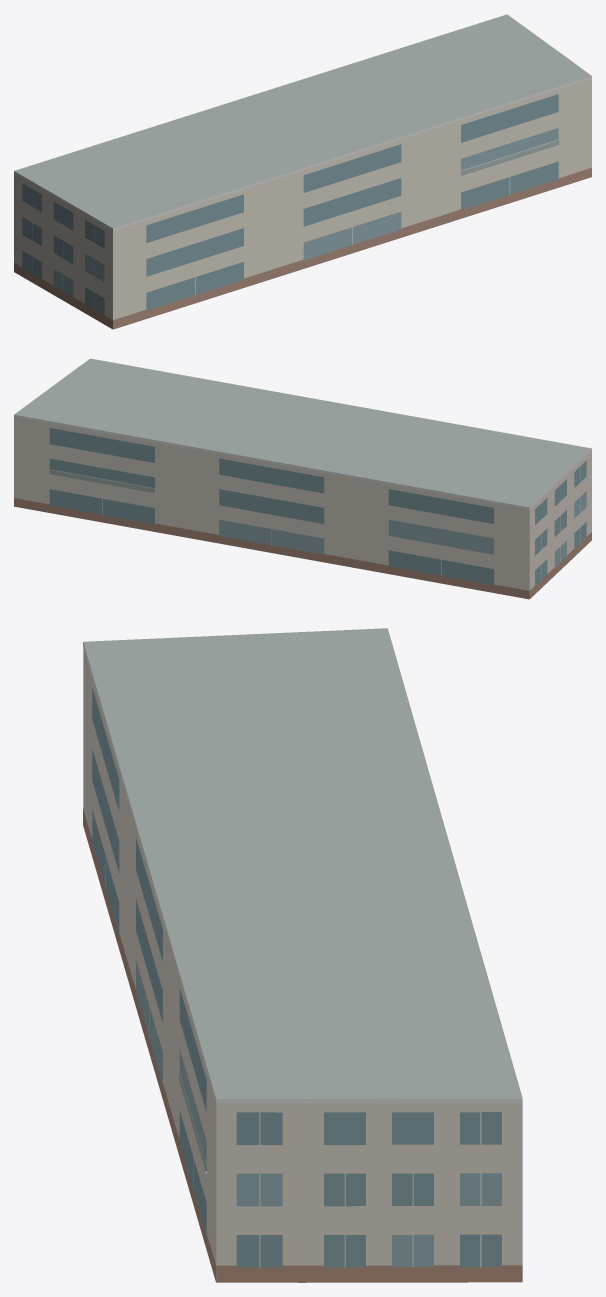
Rendered from survey-upis-32634216.glb.
3 views of the same model, one above another, from view 1: azimuth 30°, elevation 25°; view 2: azimuth 150°, elevation 25°; view 3: azimuth 270°, elevation 25° (orthographic). The views are drawn at different scales.
Parts seen in each view (by area): view 1: survey-upis-32634216.tmp; view 2: survey-upis-32634216.tmp; view 3: survey-upis-32634216.tmp.
Part boxes in pixels (<box>): survey-upis-32634216.tmp: <box>14,14,591,329</box>; survey-upis-32634216.tmp: <box>14,358,591,599</box>; survey-upis-32634216.tmp: <box>83,628,522,1282</box>.
Bounding box in the file's own units: 50.27 × 9.15 × 19.84.
